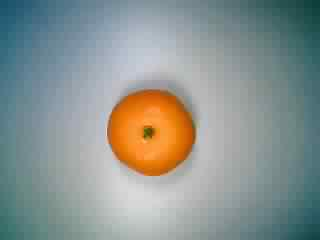orange: (106, 79, 201, 181)
